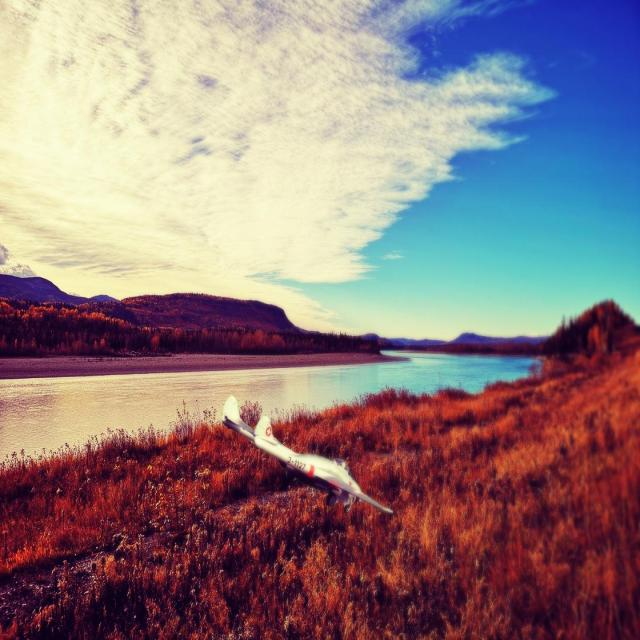airplane: (221, 394, 393, 516)
